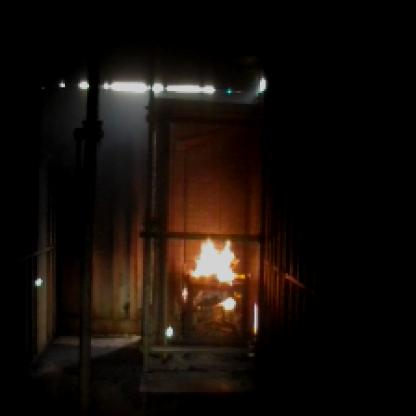Fire: (176, 232, 251, 310)
